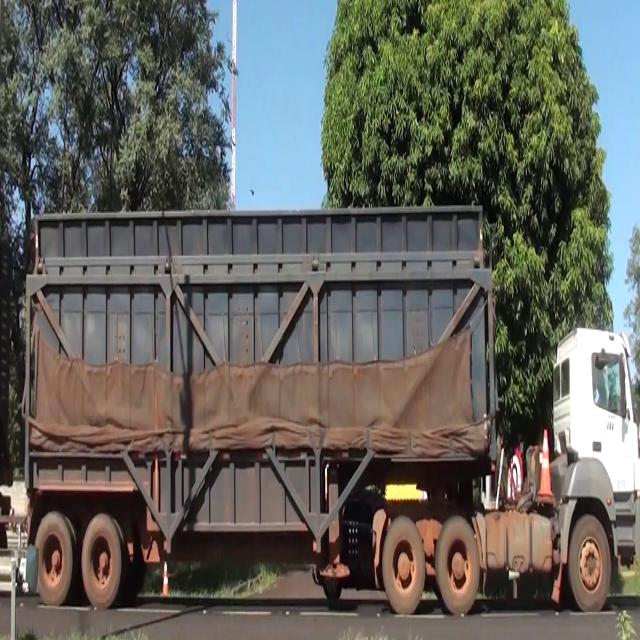-axle: (566, 512, 614, 617), (435, 516, 480, 616), (383, 518, 426, 614), (80, 516, 123, 608), (33, 511, 73, 605)
